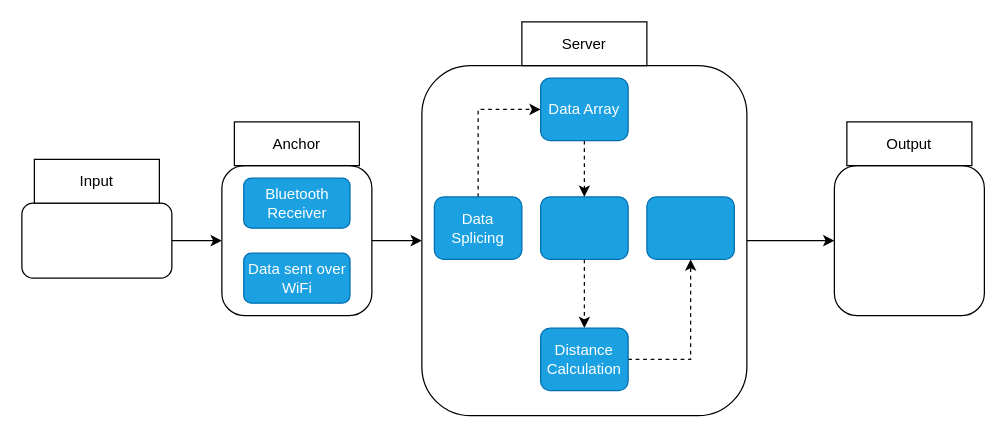
Image size: 1006x438. Some labels were removed from this diagram. Each missing label, with the centre of its shape:
"Beacon (Bluetooth Broadcast)" goes at (96,240).
"Data Filtering" goes at (583,227).
"Range Comparison" goes at (690,227).
"Status Update (Present/Absent) with Real time Entry/Exit" goes at (908,240).
